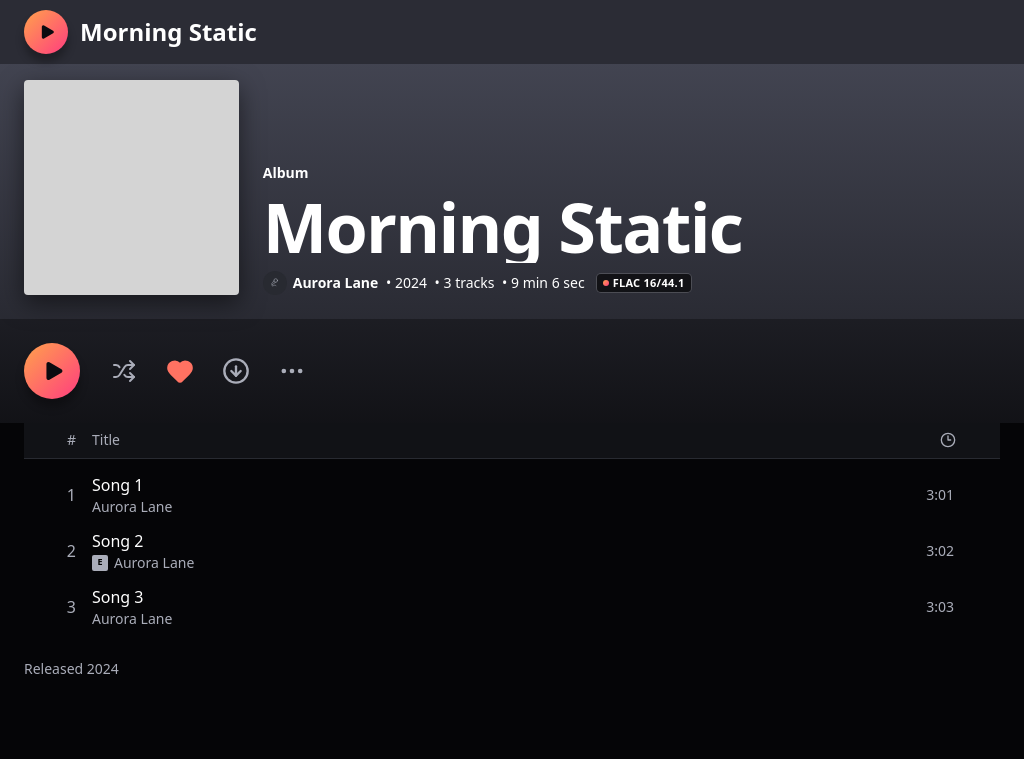
download toggle in page headers › downloads the album on click and shows the progress while it runs
The width and height of the screenshot is (1024, 759).
Click the button named "Download" at (236, 371), box x1=216 y1=351 x2=256 y2=391
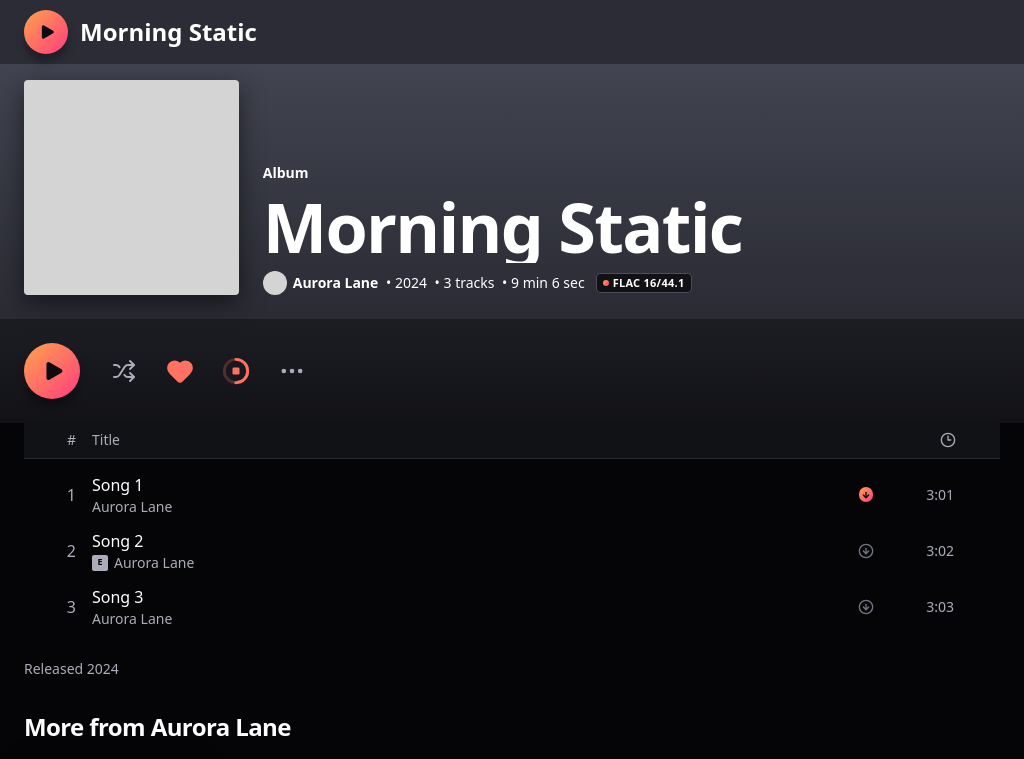
Now the button named "Downloading, 50 %" is shown, box x1=216 y1=351 x2=256 y2=391
